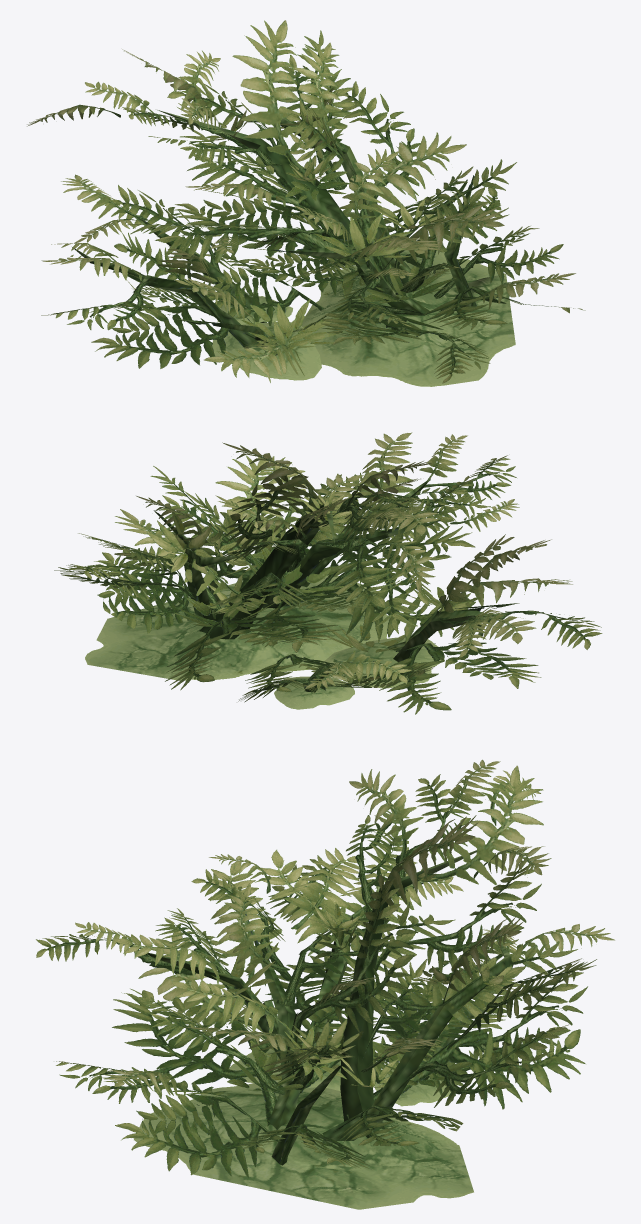
Rendered from yj_cao_1.FBX.
3 views of the same model, one above another, from view 1: azimuth 30°, elevation 25°; view 2: azimuth 150°, elevation 25°; view 3: azimuth 270°, elevation 25° (orthographic). The views are drawn at different scales.
Parts seen in each view (by area): view 1: yj_cao_1; view 2: yj_cao_1; view 3: yj_cao_1.
Part boxes in pixels (box(x1,y1,x2,y2)): yj_cao_1: box(27, 20, 585, 386); yj_cao_1: box(54, 432, 602, 714); yj_cao_1: box(36, 759, 614, 1209).
Bounding box in the file's own units: 468 × 233 × 427.
